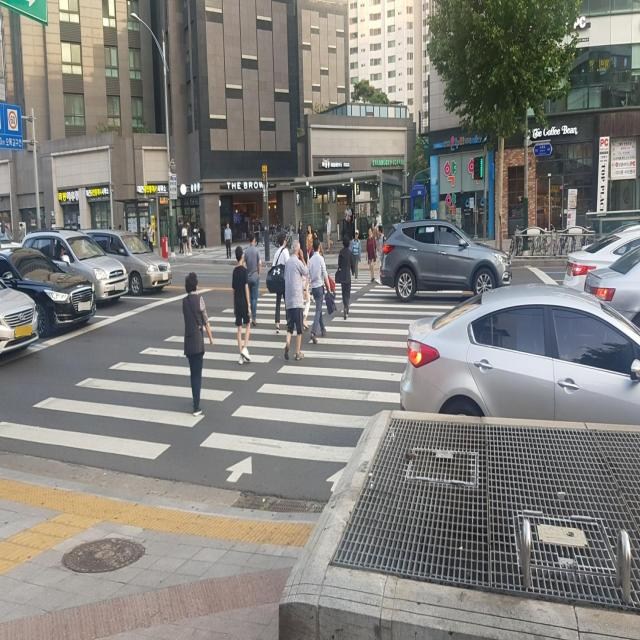횡단보도: (0, 257, 466, 490), (474, 156, 484, 180)
